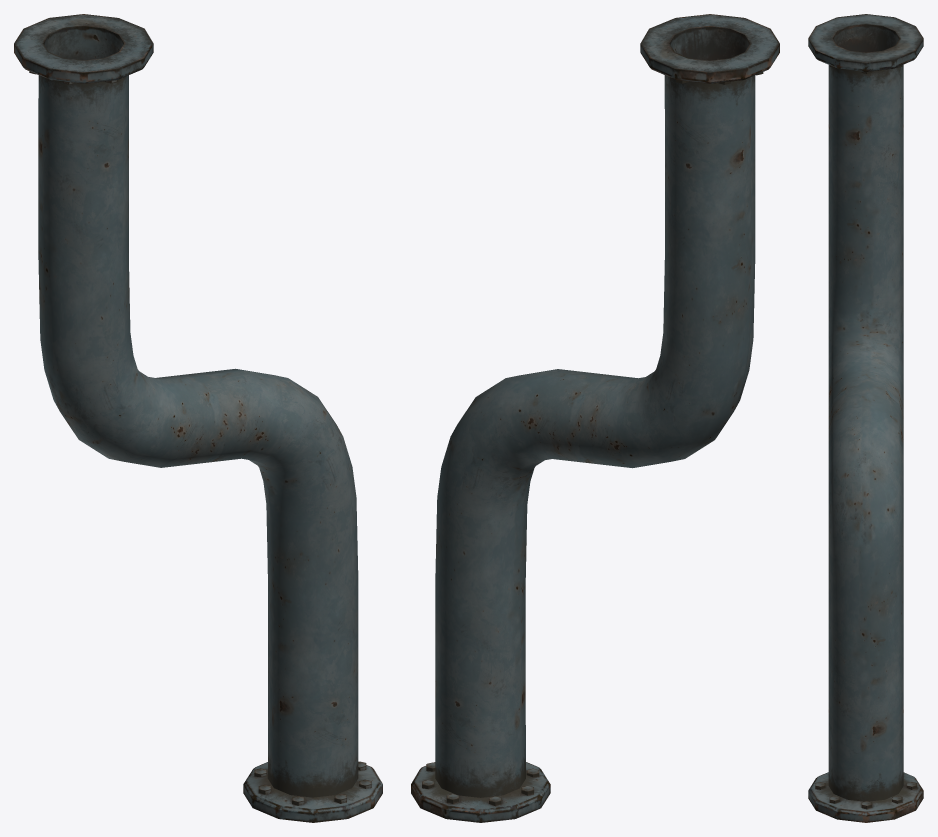
The model's file is pipe03.glb.
3 views of the same model, side by side, from view 1: azimuth 30°, elevation 25°; view 2: azimuth 150°, elevation 25°; view 3: azimuth 270°, elevation 25° (orthographic). The views are drawn at different scales.
Visible parts, largest first — view 1: modular_industrial_pipes_01_pipe03.001; view 2: modular_industrial_pipes_01_pipe03.001; view 3: modular_industrial_pipes_01_pipe03.001.
Part boxes in pixels (x1,y1,x2,y2): modular_industrial_pipes_01_pipe03.001: (14,14,382,822); modular_industrial_pipes_01_pipe03.001: (411,14,779,822); modular_industrial_pipes_01_pipe03.001: (808,14,923,822).
Size of the model in its own units: 0.5986 by 1.31 by 0.2064.
Materials: 1 (1 with a texture image).
